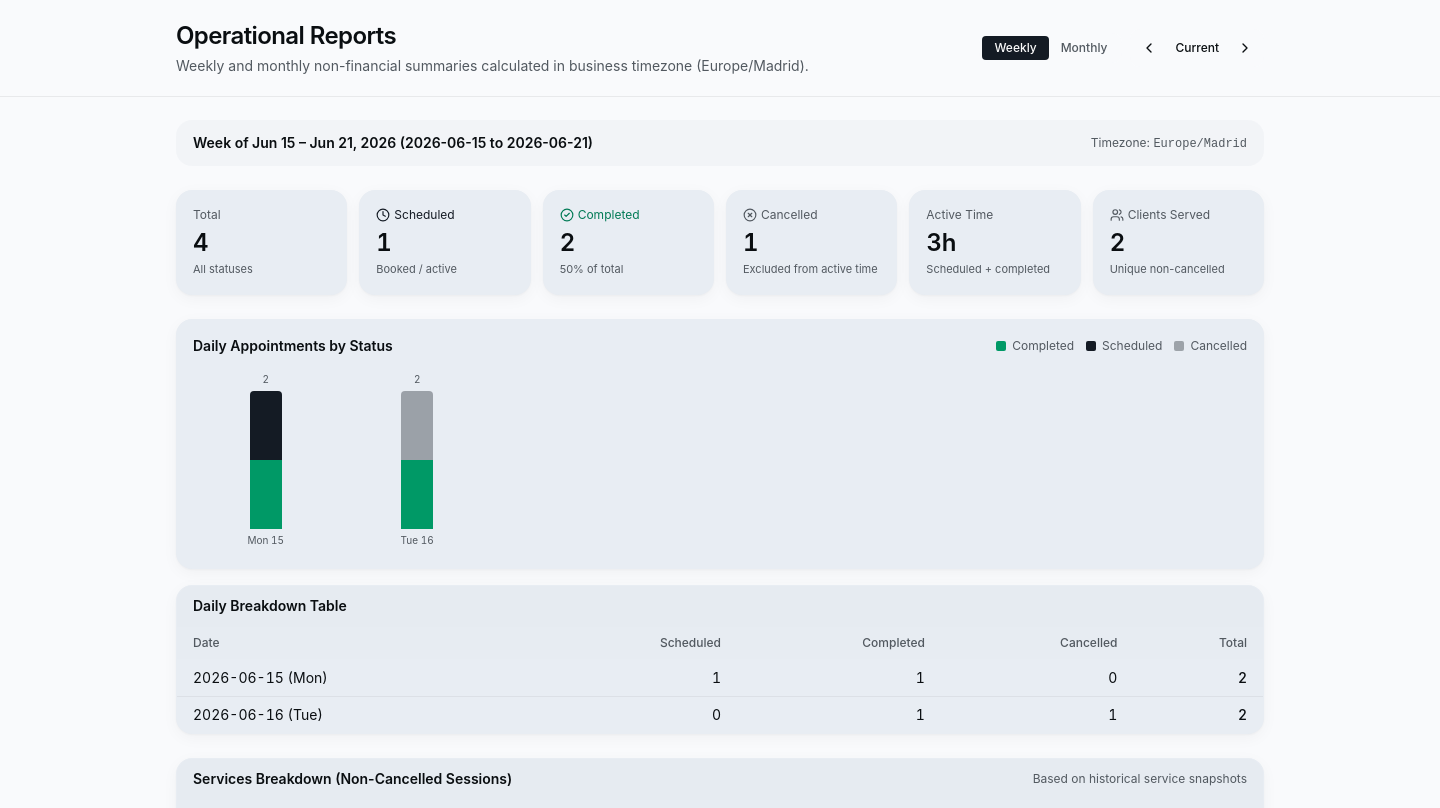
Test: ReportsPage › renders weekly and monthly operational summaries with accessible chart and tabular breakdown
The width and height of the screenshot is (1440, 808).
Expected: the heading "Week of Jun 15 – Jun 21, 2026 (2026-06-15 to 2026-06-21)" is shown, [193,133,593,153]
Expected: the text "50% of total" is shown, [560,262,623,276]
Switch to Monthly report
Click the button "Monthly".
click(1084, 48)  # box [1049,36,1120,60]
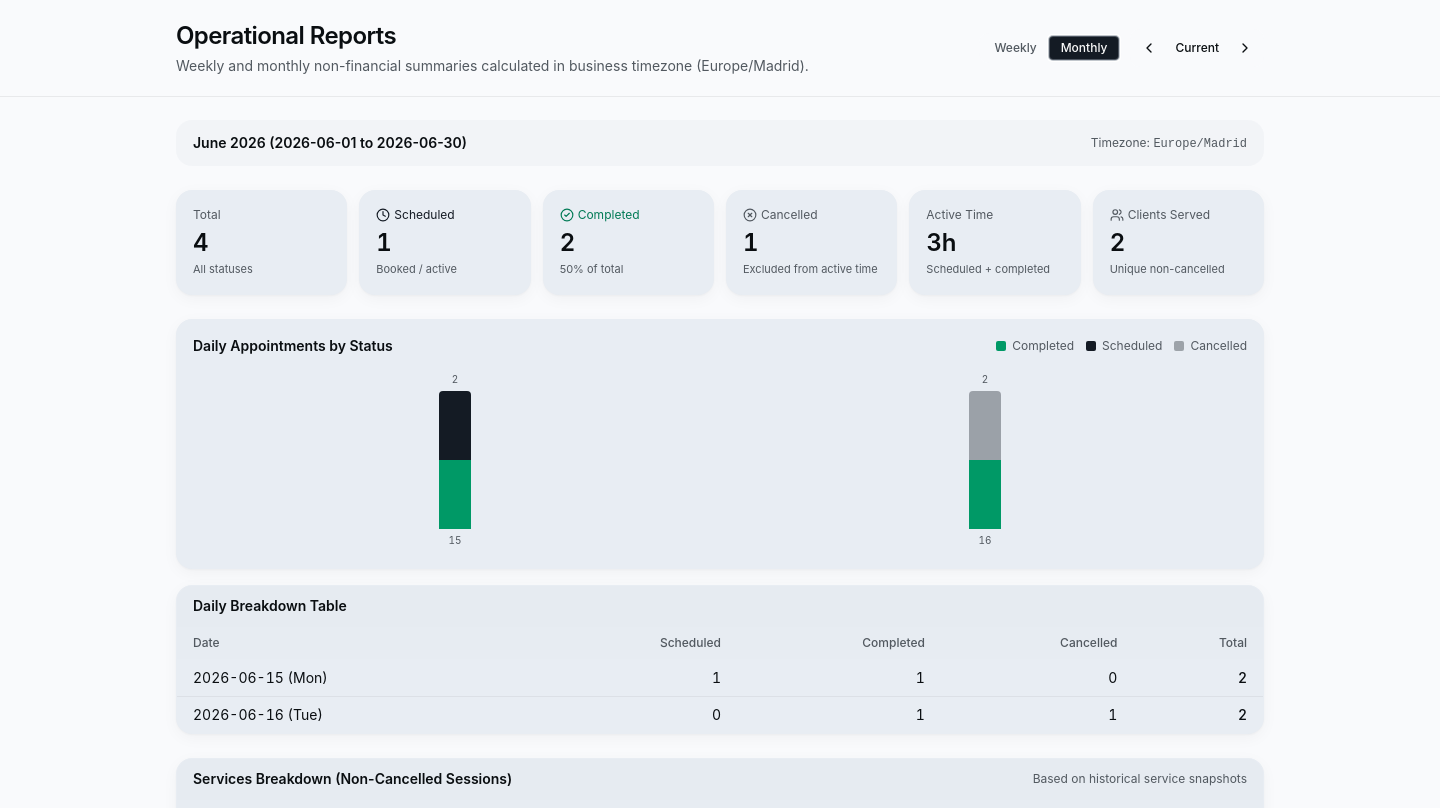
Now the heading "June 2026 (2026-06-01 to 2026-06-30)" is shown, box [193,133,467,153]
